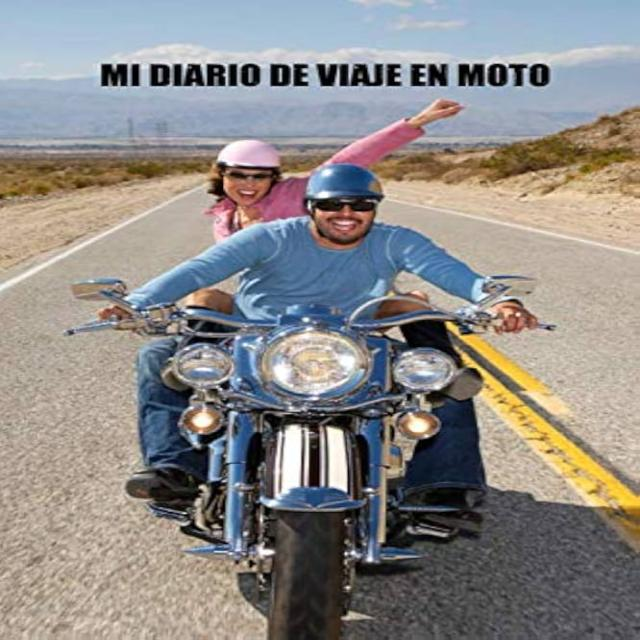MOTORCYCLE: (109, 284, 490, 639)
